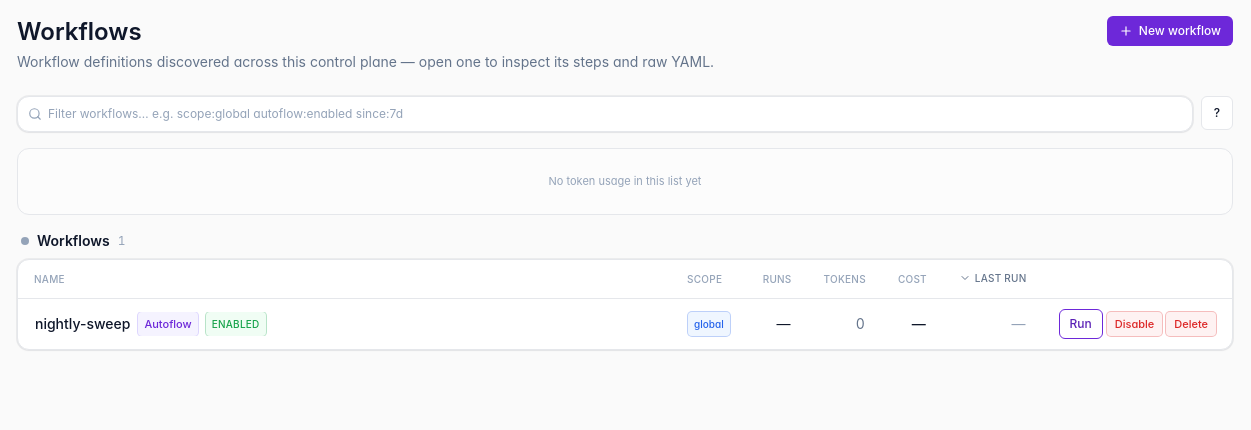
Scenario: Workflows — autoflow badge + toggle › a toggle failure surfaces via the page error mechanism
The width and height of the screenshot is (1251, 430).
Expected: the text "nightly-sweep" is shown, [35,314,130,334]
Click the button with aria-label "Disable nightly-sweep". click: (1135, 324)
box: [1107,312,1162,336]
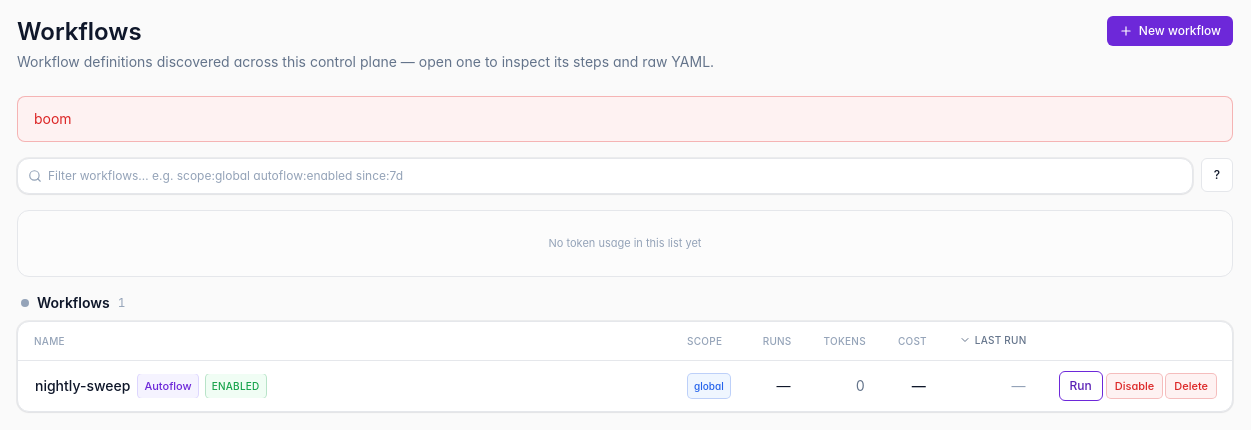
Now the message reads "boom", box [34,110,72,127]
